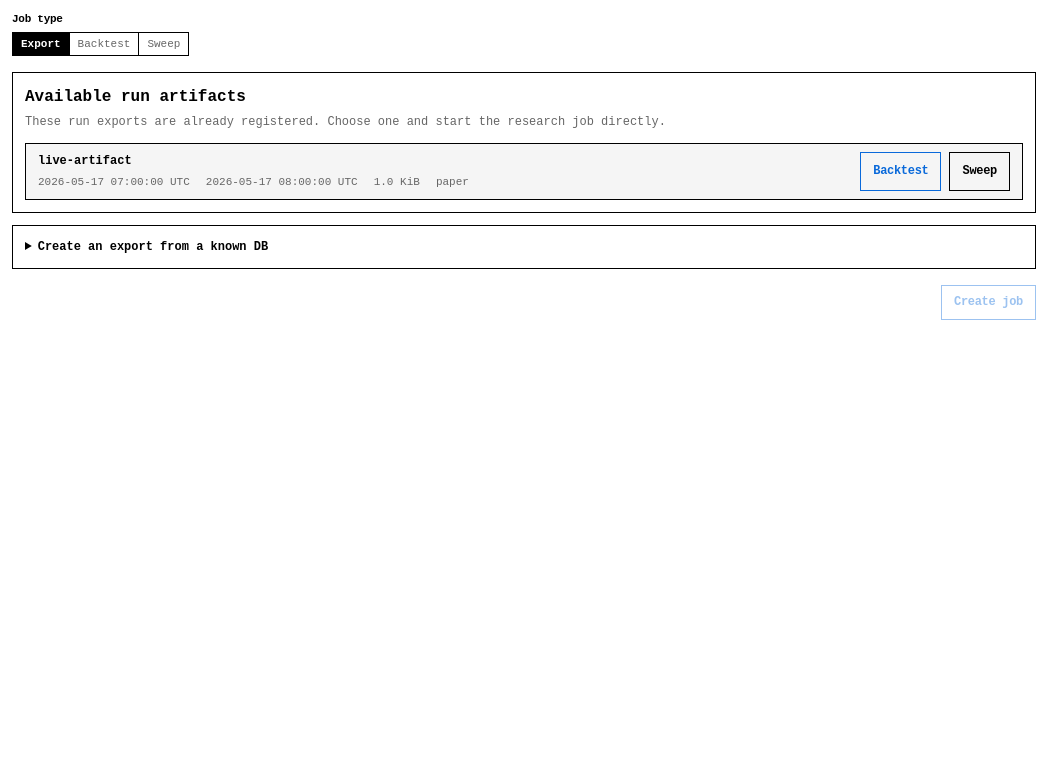
Test: JobCreateForm - export › shows available artifacts as direct backtest and sweep actions
Expected: the text "Available run artifacts" is shown, left=25, top=88, right=246, bottom=106
Expected: the text "live-artifact" is shown, left=38, top=154, right=132, bottom=168
Click the button with aria-label "backtest live-artifact": (901, 172) left=860, top=152, right=942, bottom=191
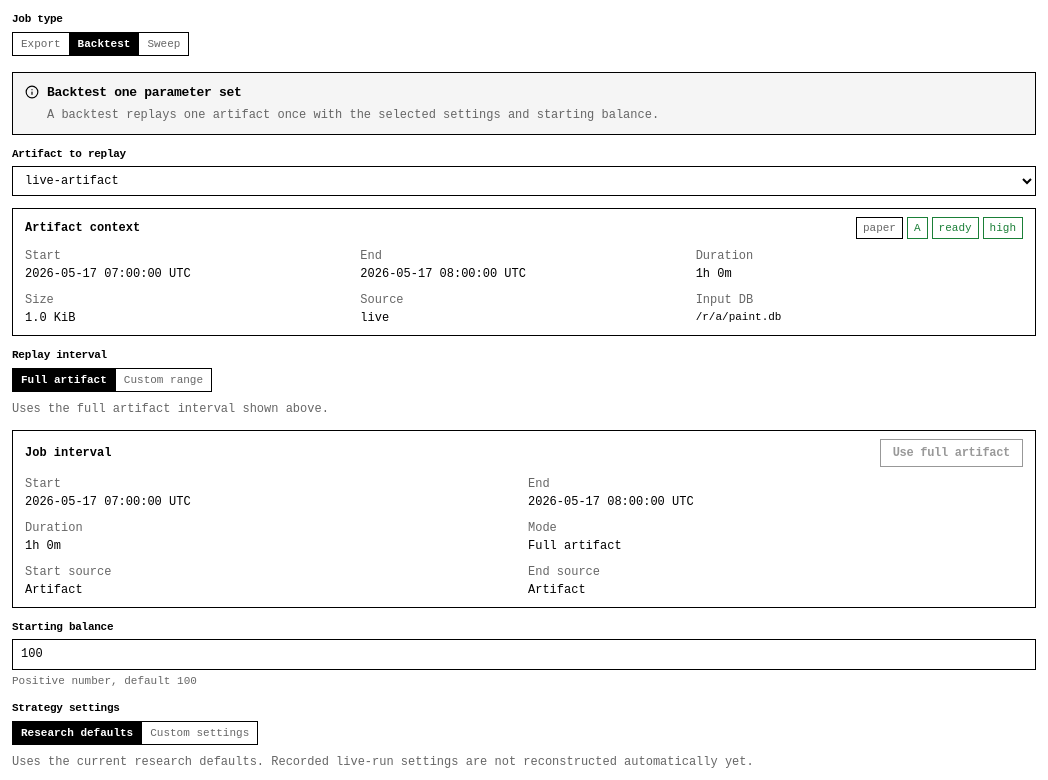
Result: the text "Backtest one parameter set" is shown at left=47, top=85, right=241, bottom=100
Result: the dropdown labelled "Artifact to replay" shows "live-artifact" at left=12, top=166, right=1036, bottom=196
